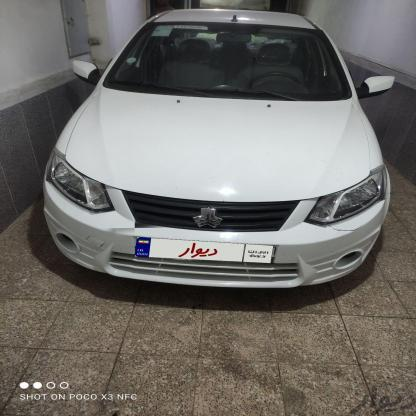Car: (30, 1, 403, 310)
